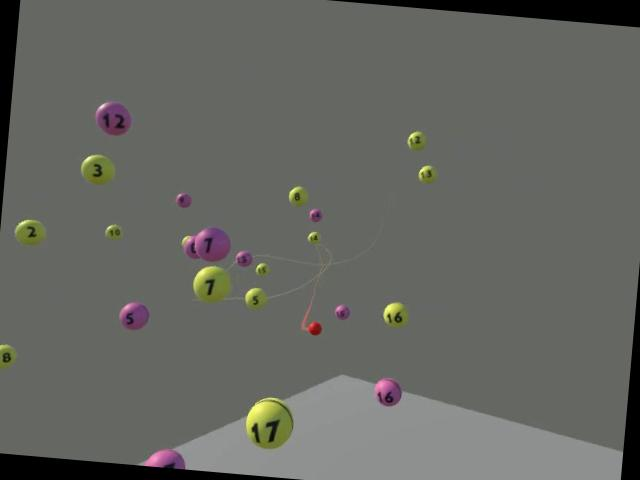ball_02_yellow: (12, 217, 46, 246)
ball_03_yellow: (79, 152, 115, 186)
ball_05_pink: (117, 300, 149, 330)
ball_05_yellow: (242, 286, 266, 310)
ball_07_pink: (193, 224, 232, 263)
ball_07_yellow: (190, 263, 232, 303)
ball_08_yellow: (287, 184, 308, 206)
ball_09_pink: (173, 192, 190, 208)
ball_10_yellow: (105, 224, 122, 238)
ball_12_pink: (92, 99, 132, 136)
ball_12_yellow: (405, 130, 425, 150)
ball_13_pink: (235, 250, 252, 267)
ball_13_yellow: (416, 163, 436, 183)
ball_14_pink: (308, 207, 322, 222)
ball_14_yellow: (306, 230, 321, 244)
ball_15_pink: (334, 303, 349, 320)
ball_15_yellow: (254, 262, 268, 275)
ball_16_pink: (373, 378, 401, 406)
ball_16_yellow: (381, 301, 408, 328)
ball_17_yellow: (243, 394, 296, 450)
ball_18_yellow: (0, 341, 16, 369)
ball_unknown: (144, 446, 186, 468), (184, 237, 194, 260), (180, 234, 190, 248)
user_cursor: (307, 320, 322, 336)
